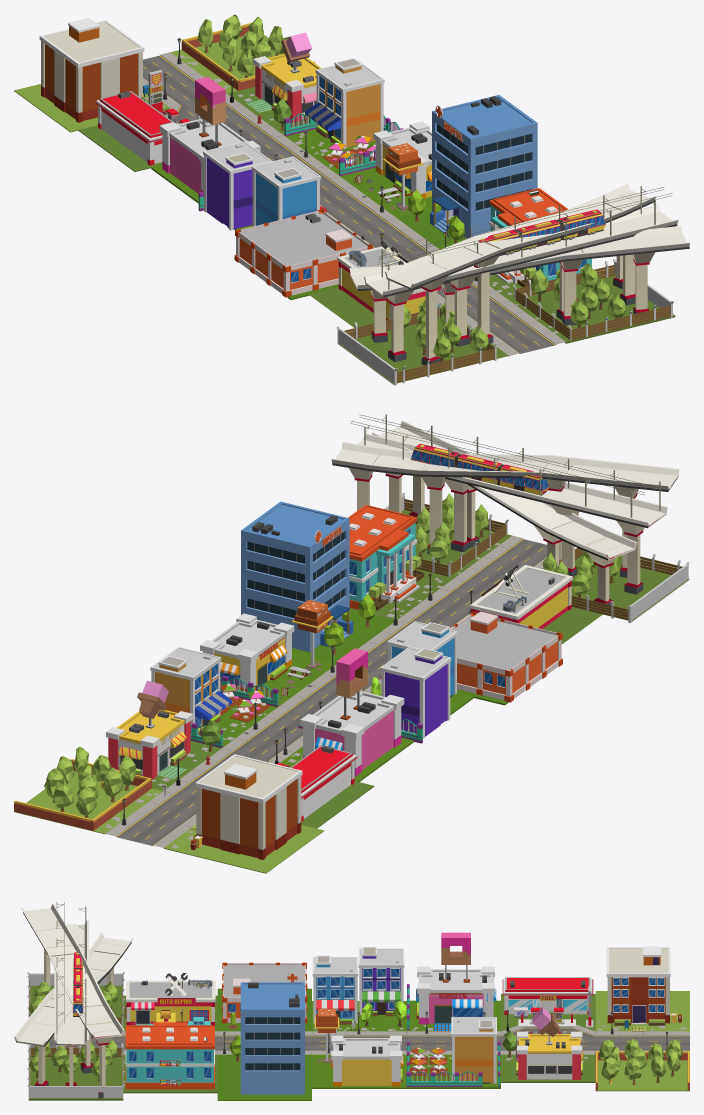
Rendered from CityMaps01.fbx.
3 renders of one model, top to bottom at view 1: azimuth 30°, elevation 25°; view 2: azimuth 150°, elevation 25°; view 3: azimuth 270°, elevation 25°, orthographic. The views are drawn at different scales.
Parts seen in each view (by area): view 1: BR_Map05, BR_Map01, BR_Ground, BR_Map04, BR_Map03, BR_Roads, BR_Map02, BR_Metro, BR_Map06, BR_Bridge; view 2: BR_Map05, BR_Map01, BR_Map03, BR_Roads, BR_Map04, BR_Map06, BR_Map02, BR_Ground, BR_Metro, BR_Bridge; view 3: BR_Map05, BR_Map04, BR_Map01, BR_Map03, BR_Map06, BR_Map02, BR_Roads, BR_Ground, BR_Metro, BR_Bridge.
Boxes of the visible parts, box(x1,y1,x2,y2) form: BR_Map05: box(234, 95, 537, 299); BR_Map01: box(14, 14, 315, 132); BR_Ground: box(337, 259, 675, 385); BR_Map04: box(203, 121, 431, 230); BR_Map03: box(151, 58, 402, 211); BR_Roads: box(349, 184, 689, 366); BR_Map02: box(78, 32, 321, 171); BR_Metro: box(364, 186, 678, 362); BR_Map06: box(309, 188, 591, 332); BR_Bridge: box(478, 209, 605, 255); BR_Map05: box(241, 501, 562, 705); BR_Map01: box(14, 746, 324, 873); BR_Map03: box(150, 647, 422, 781); BR_Roads: box(331, 420, 679, 607); BR_Map04: box(200, 600, 473, 738); BR_Map06: box(348, 505, 602, 644); BR_Map02: box(106, 680, 374, 828); BR_Ground: box(384, 492, 689, 623); BR_Metro: box(351, 414, 667, 594); BR_Bridge: box(411, 443, 549, 495); BR_Map05: box(217, 962, 311, 1100); BR_Map04: box(312, 947, 406, 1088); BR_Map01: box(595, 946, 689, 1091); BR_Map03: box(406, 932, 500, 1088); BR_Map06: box(123, 973, 217, 1093); BR_Map02: box(501, 977, 595, 1082); BR_Roads: box(14, 903, 133, 1098); BR_Ground: box(27, 972, 124, 1100); BR_Metro: box(54, 902, 88, 1085); BR_Bridge: box(72, 952, 83, 1016).
Bounding box in the file's own units: 12254 × 4478 × 28624.
6 materials, 6 textured.
